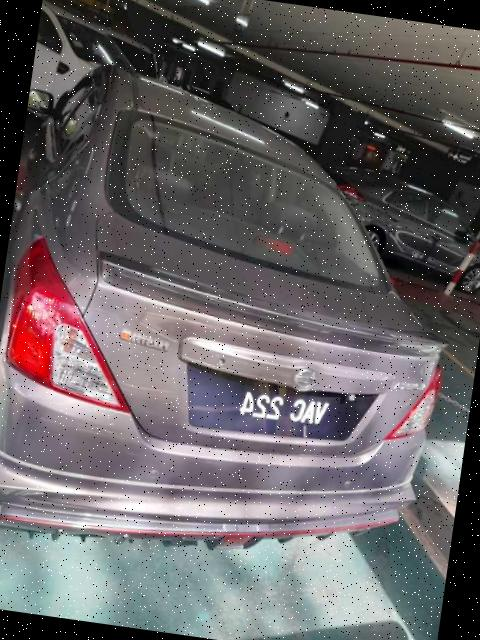License_Plate: (177, 362, 382, 454)
car: (1, 53, 480, 593)
